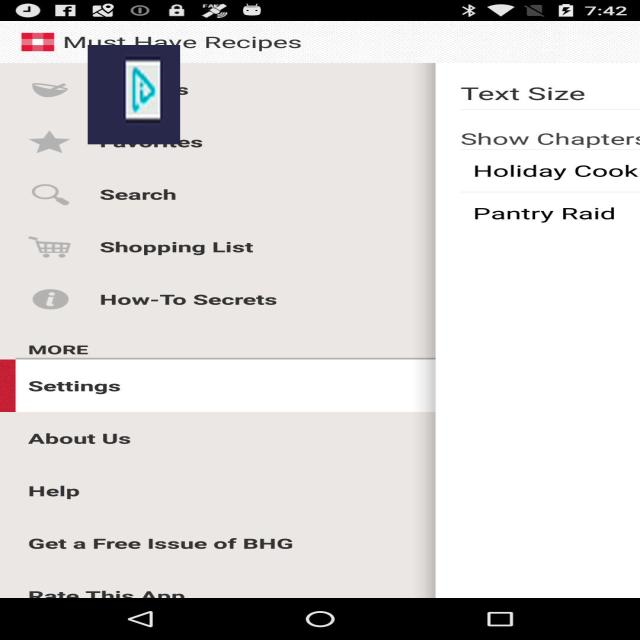sneaking: (88, 45, 180, 144)
